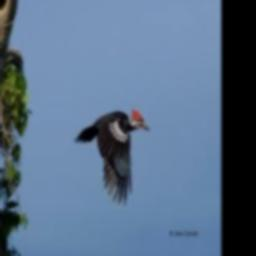Woodpecker: (74, 108, 150, 206)
